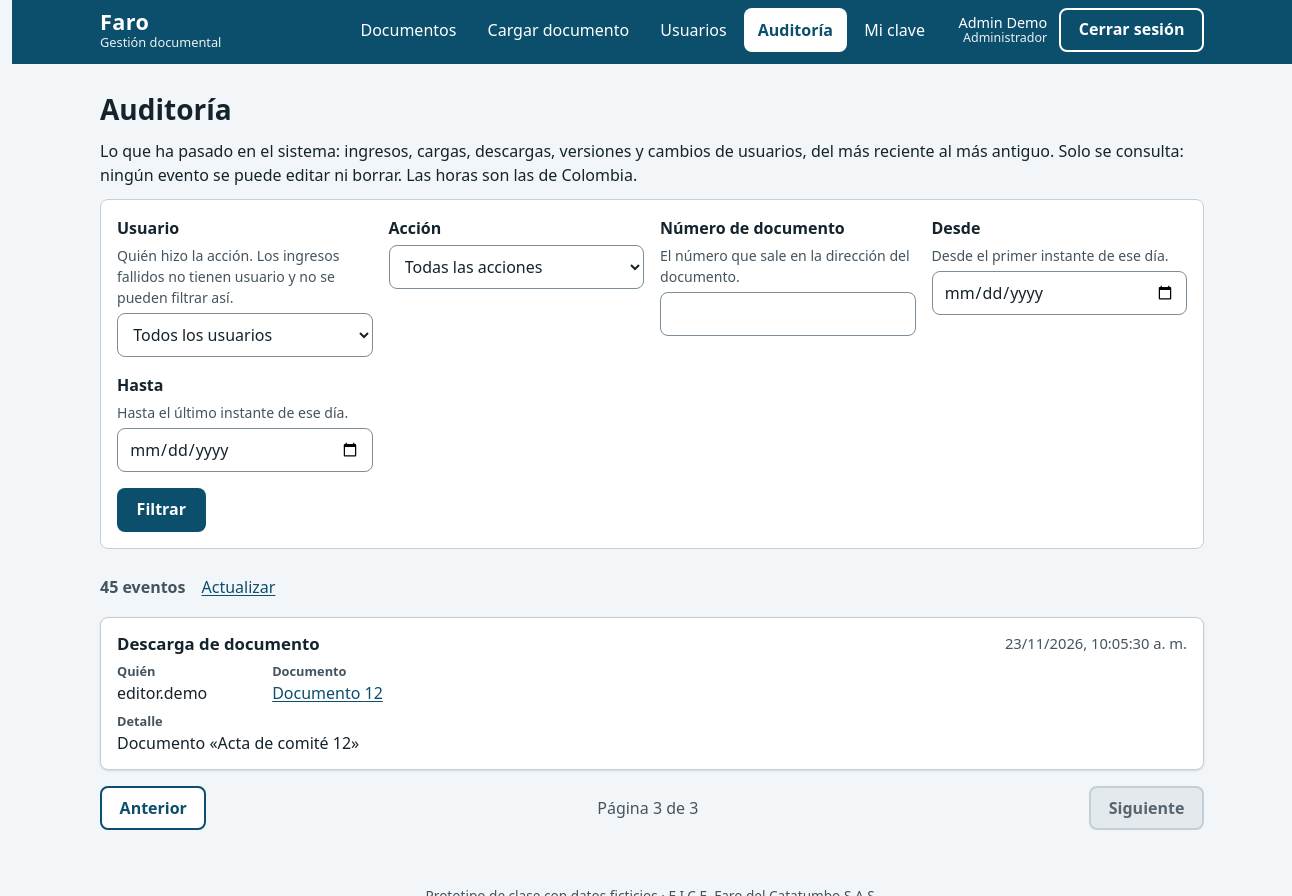
Test: paginación › filtrar desde la página 3 vuelve a la página 1
expect the text "Página 3 de 3" is shown: met, box [597,796,698,820]
Select "Descarga de documento" in the dropdown labelled "Acción" at (516, 267), box [388,245,644,289]
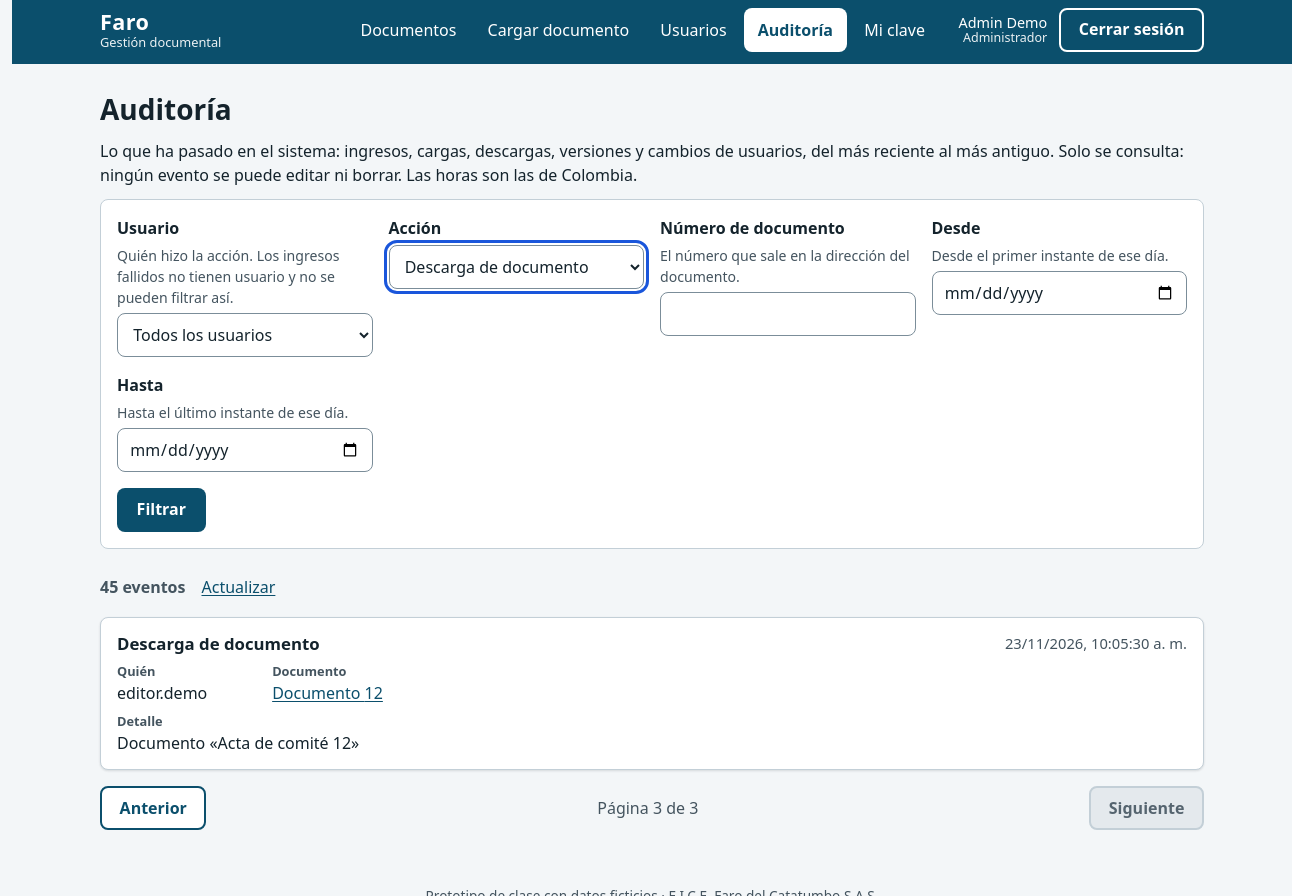
Click the button "Filtrar".
click(161, 510)  # box [117,488,206,532]
(page scrolled)
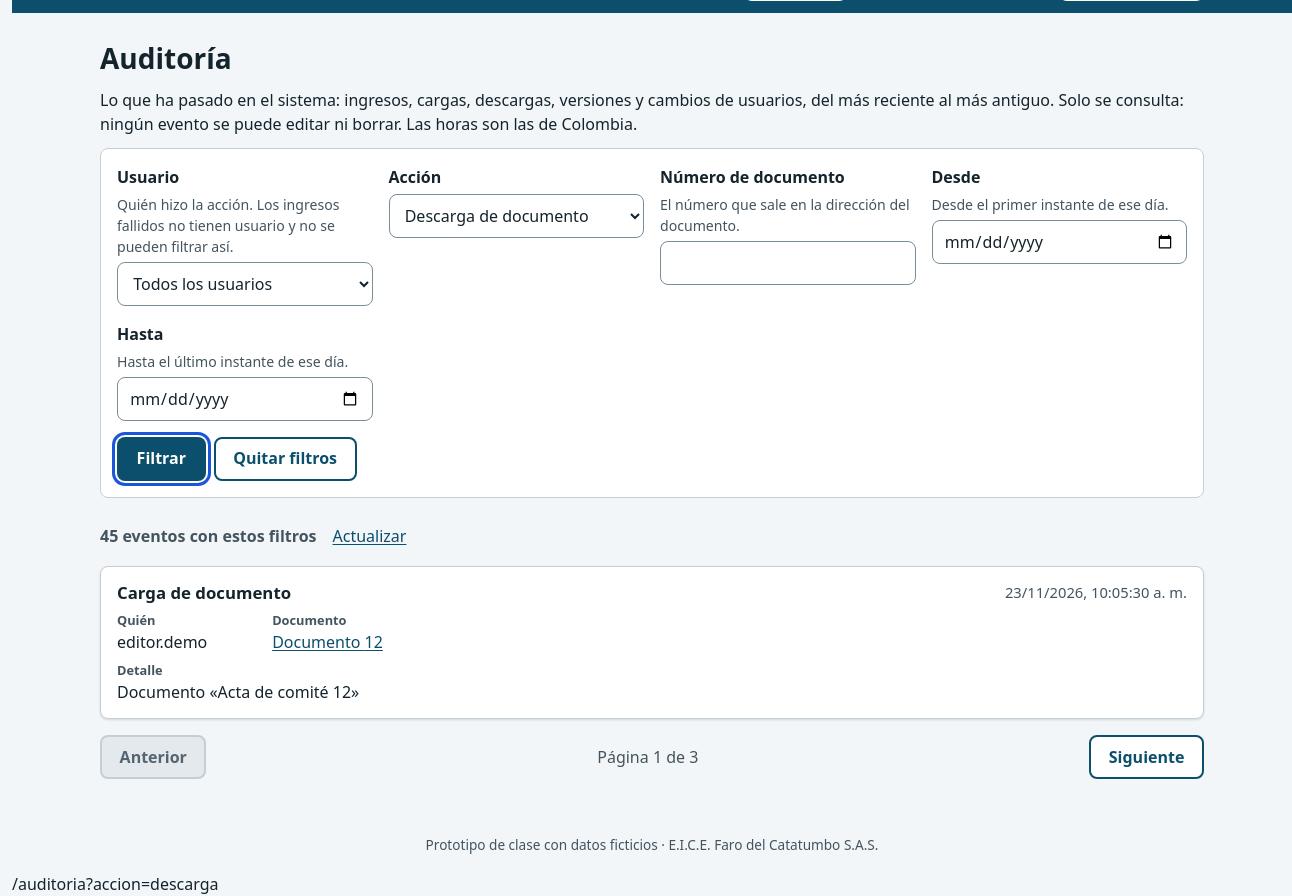
expect the text with test id "ubicacion" reads "/auditoria?accion=descarga": met, box [12,873,218,895]
